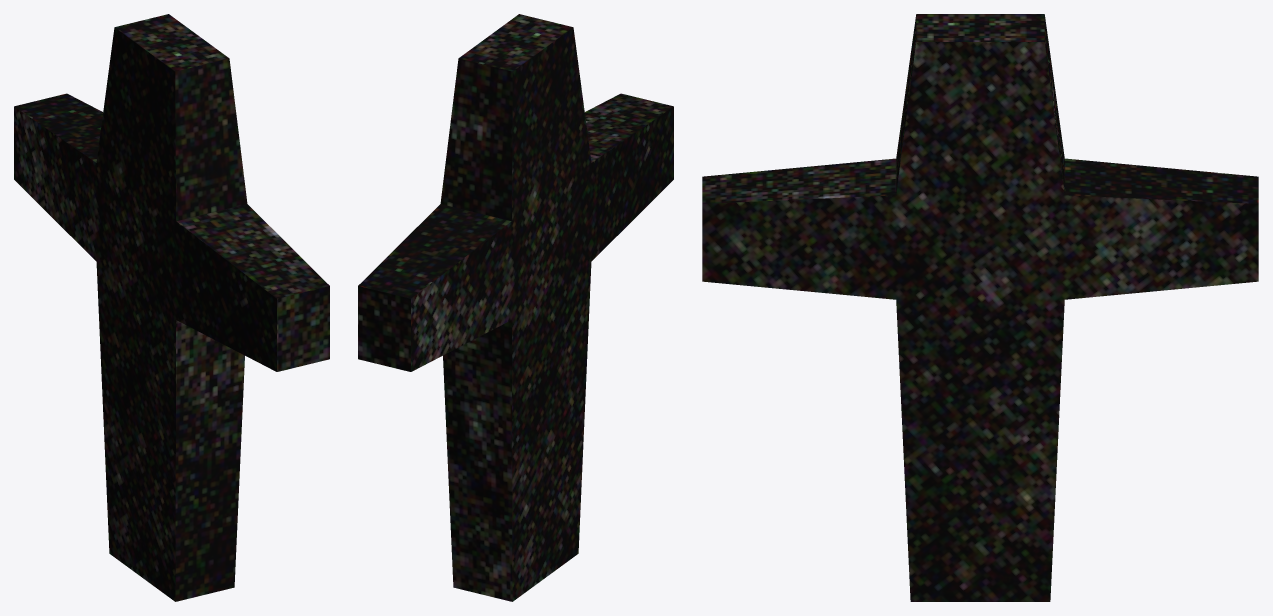
The model's file is TombCross.FBX.
3 views of the same model, side by side, from view 1: azimuth 30°, elevation 25°; view 2: azimuth 150°, elevation 25°; view 3: azimuth 270°, elevation 25° (orthographic). The views are drawn at different scales.
Visible parts, largest first — view 1: Box02; view 2: Box02; view 3: Box02.
Part boxes in pixels (<box>): Box02: <box>14,14,329,601</box>; Box02: <box>358,14,673,601</box>; Box02: <box>702,14,1258,601</box>.
Bounding box in the file's own units: 21.56 × 138 × 152.
